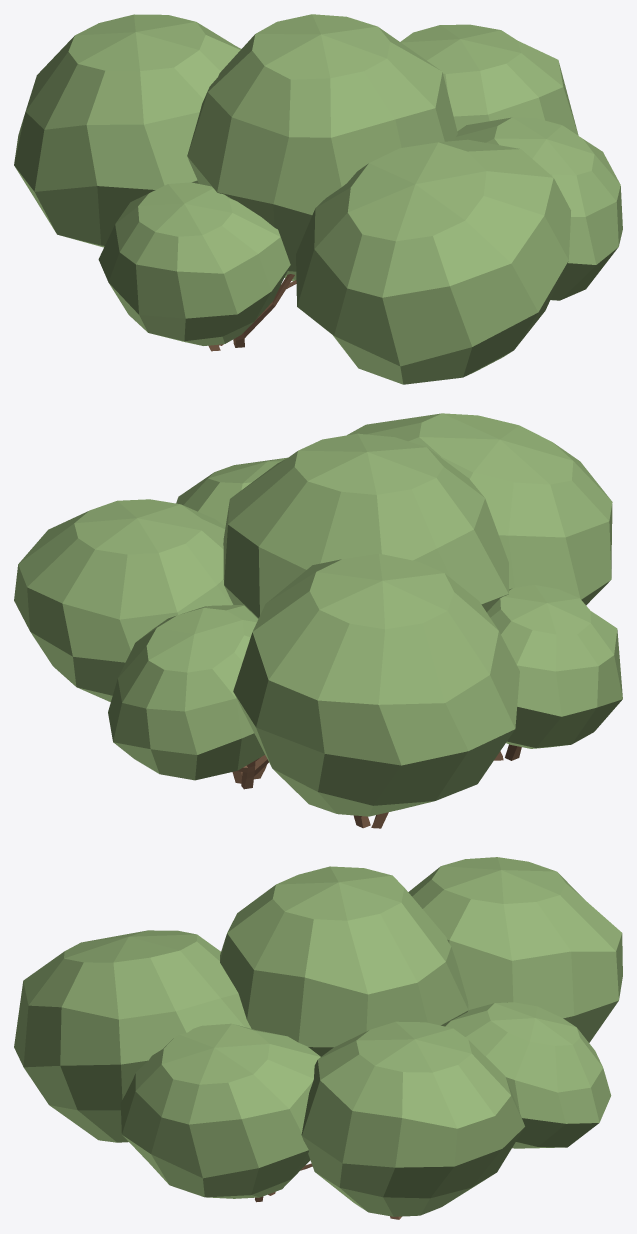
Rendered from Bushes_bush_01.006.fbx.
3 views of the same model, one above another, from view 1: azimuth 30°, elevation 25°; view 2: azimuth 150°, elevation 25°; view 3: azimuth 270°, elevation 25° (orthographic). The views are drawn at different scales.
Visible parts, largest first — view 1: Bushes_bush_01.006; view 2: Bushes_bush_01.006; view 3: Bushes_bush_01.006.
Boxes of the visible parts, x1=… form: Bushes_bush_01.006: x1=14, y1=14, x2=622, y2=384; Bushes_bush_01.006: x1=14, y1=413, x2=622, y2=828; Bushes_bush_01.006: x1=14, y1=857, x2=622, y2=1219.
Size of the model in its own units: 150 by 79 by 168.
